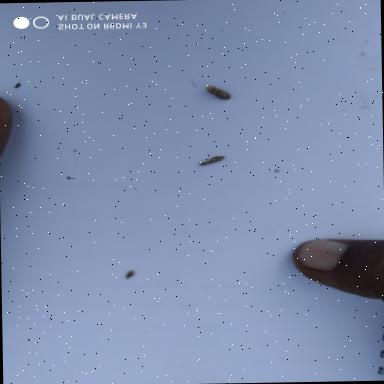pbw: (204, 85, 232, 103), (200, 154, 225, 170)
